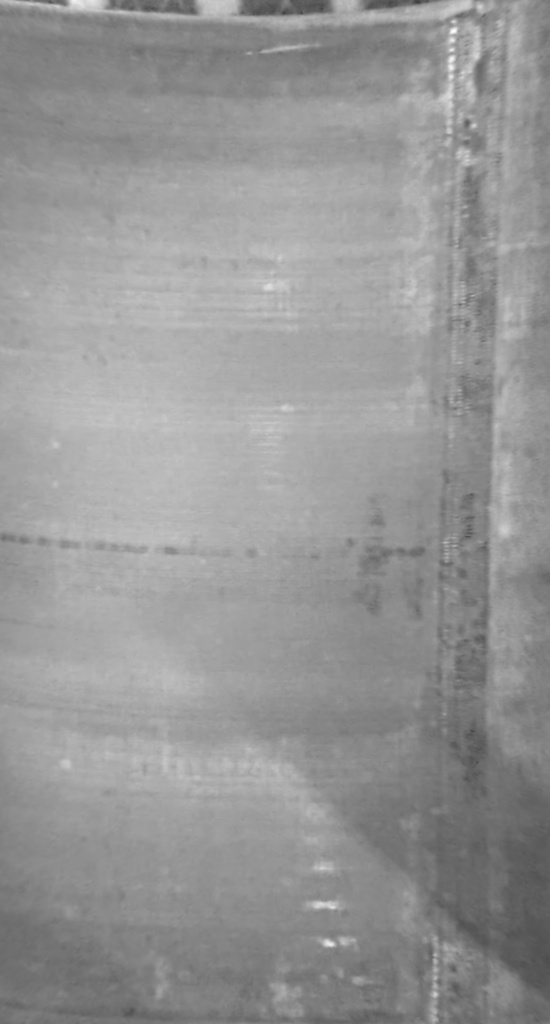splice: (423, 1, 510, 1023)
